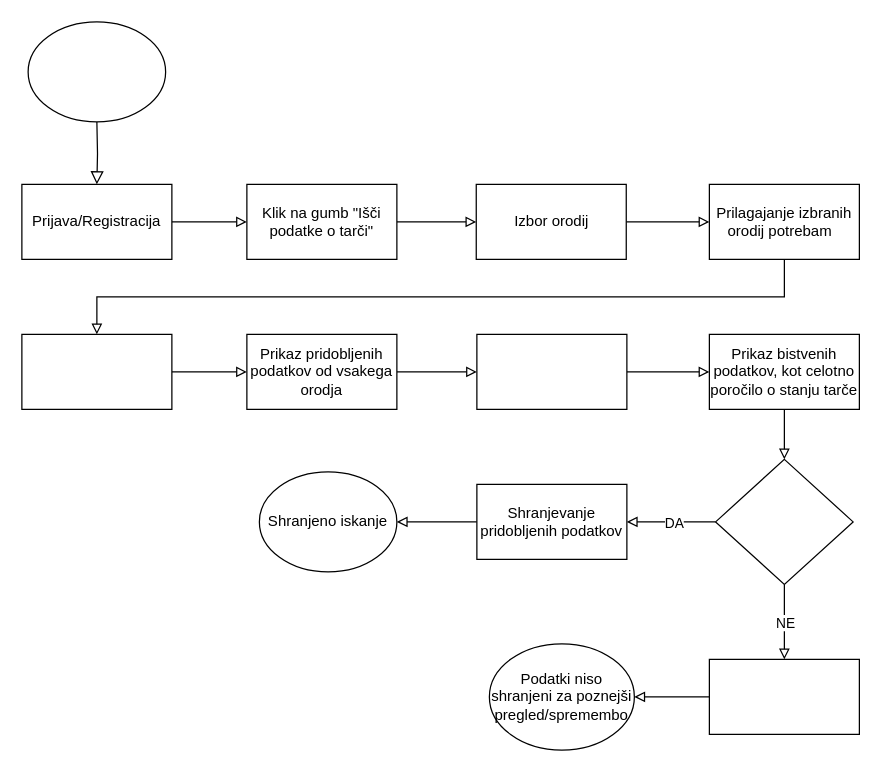
This 881x773 diagram has some shape labels left out. The centre of each missing label's shape, as x and y in pixels:
"Brisanje pridobljenih podatkov" goes at point (783, 696).
"Proženje orodij" goes at point (96, 371).
"Selekcija bistvenih podatkov" goes at point (551, 371).
"Shranjevanje podatkov" goes at point (783, 521).
"Uporabnik odpre spletno aplikacijo" goes at point (96, 71).
